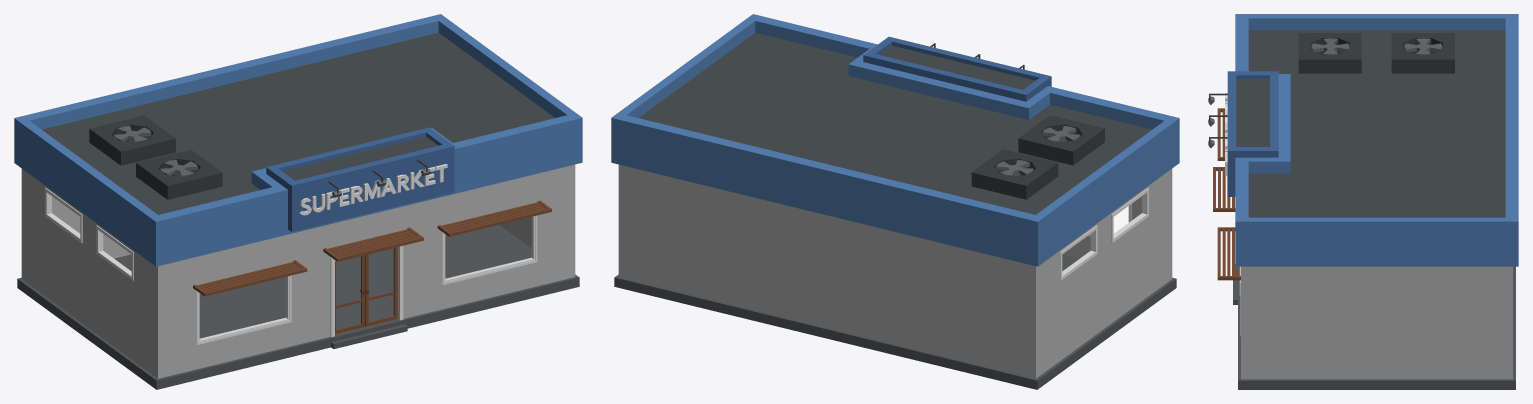
The model's file is Supermarket_01.fbx.
3 views of the same model, side by side, from view 1: azimuth 30°, elevation 25°; view 2: azimuth 150°, elevation 25°; view 3: azimuth 270°, elevation 25° (orthographic).
Visible parts, largest first — view 1: Supermarket_01, Supermarket_01_Door2, Supermarket_01_Door1; view 2: Supermarket_01; view 3: Supermarket_01, Supermarket_01_Fan2, Supermarket_01_Fan1.
Boxes of the visible parts, x1=… form: Supermarket_01: x1=14, y1=14, x2=582, y2=389; Supermarket_01_Door2: x1=365, y1=247, x2=397, y2=326; Supermarket_01_Door1: x1=335, y1=255, x2=365, y2=333; Supermarket_01: x1=611, y1=14, x2=1179, y2=389; Supermarket_01: x1=1208, y1=14, x2=1518, y2=389; Supermarket_01_Fan2: x1=1311, y1=38, x2=1349, y2=54; Supermarket_01_Fan1: x1=1404, y1=38, x2=1442, y2=54.
Size of the model in its own units: 1201 by 474 by 757.
